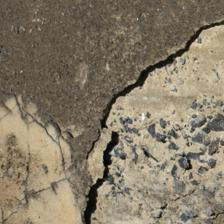Crack: (88, 22, 223, 159), (81, 130, 124, 224), (17, 99, 67, 172), (4, 178, 66, 222)
